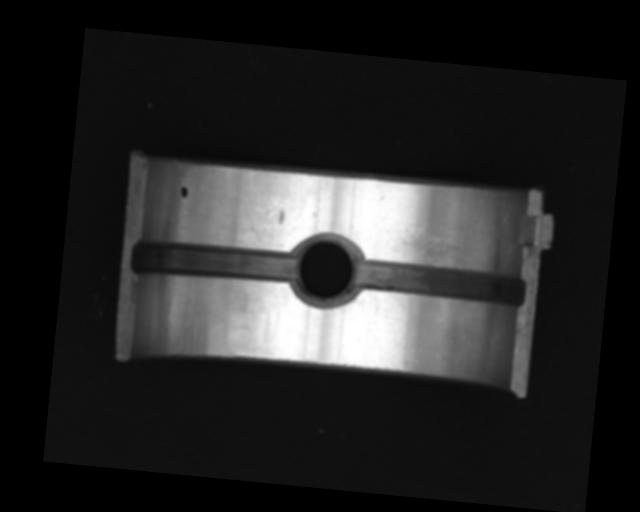blot: (179, 185, 189, 199)
bruise: (277, 210, 285, 225)
gap: (352, 256, 527, 308), (130, 237, 297, 285)
hole: (286, 229, 365, 312)
scratch: (389, 222, 497, 273)
